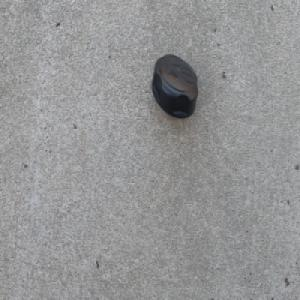FuelCap: (150, 52, 199, 122)
